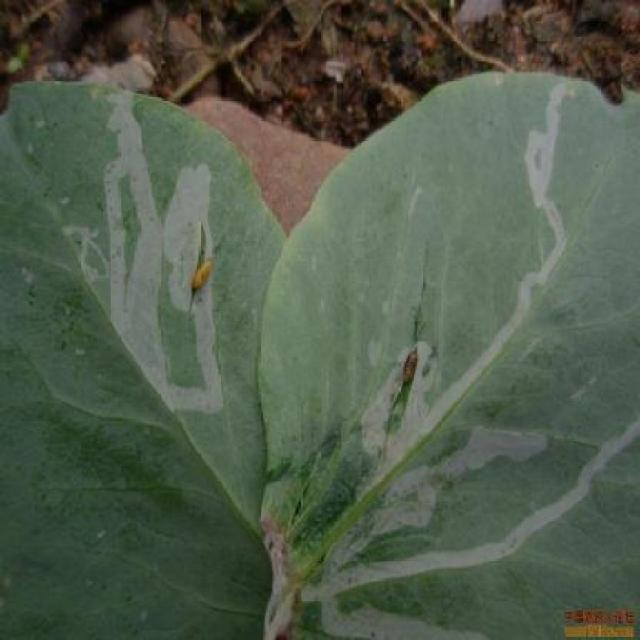whorl-maggot: (397, 335, 429, 394), (185, 252, 220, 305)
